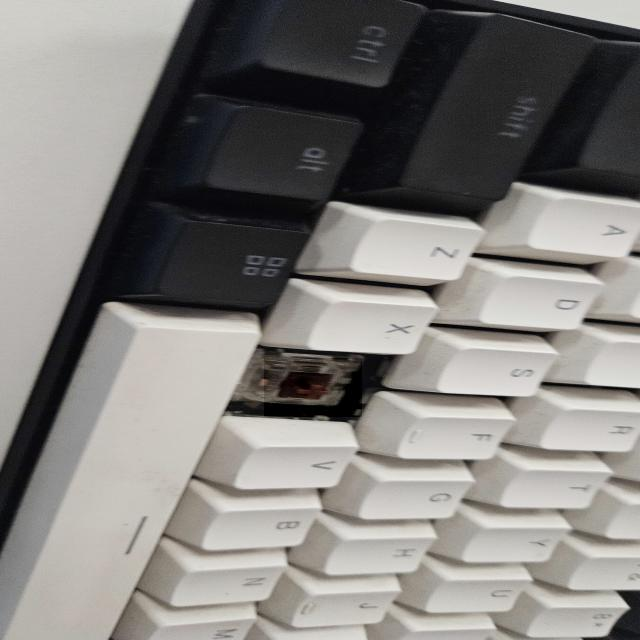C: (264, 358, 362, 417)
